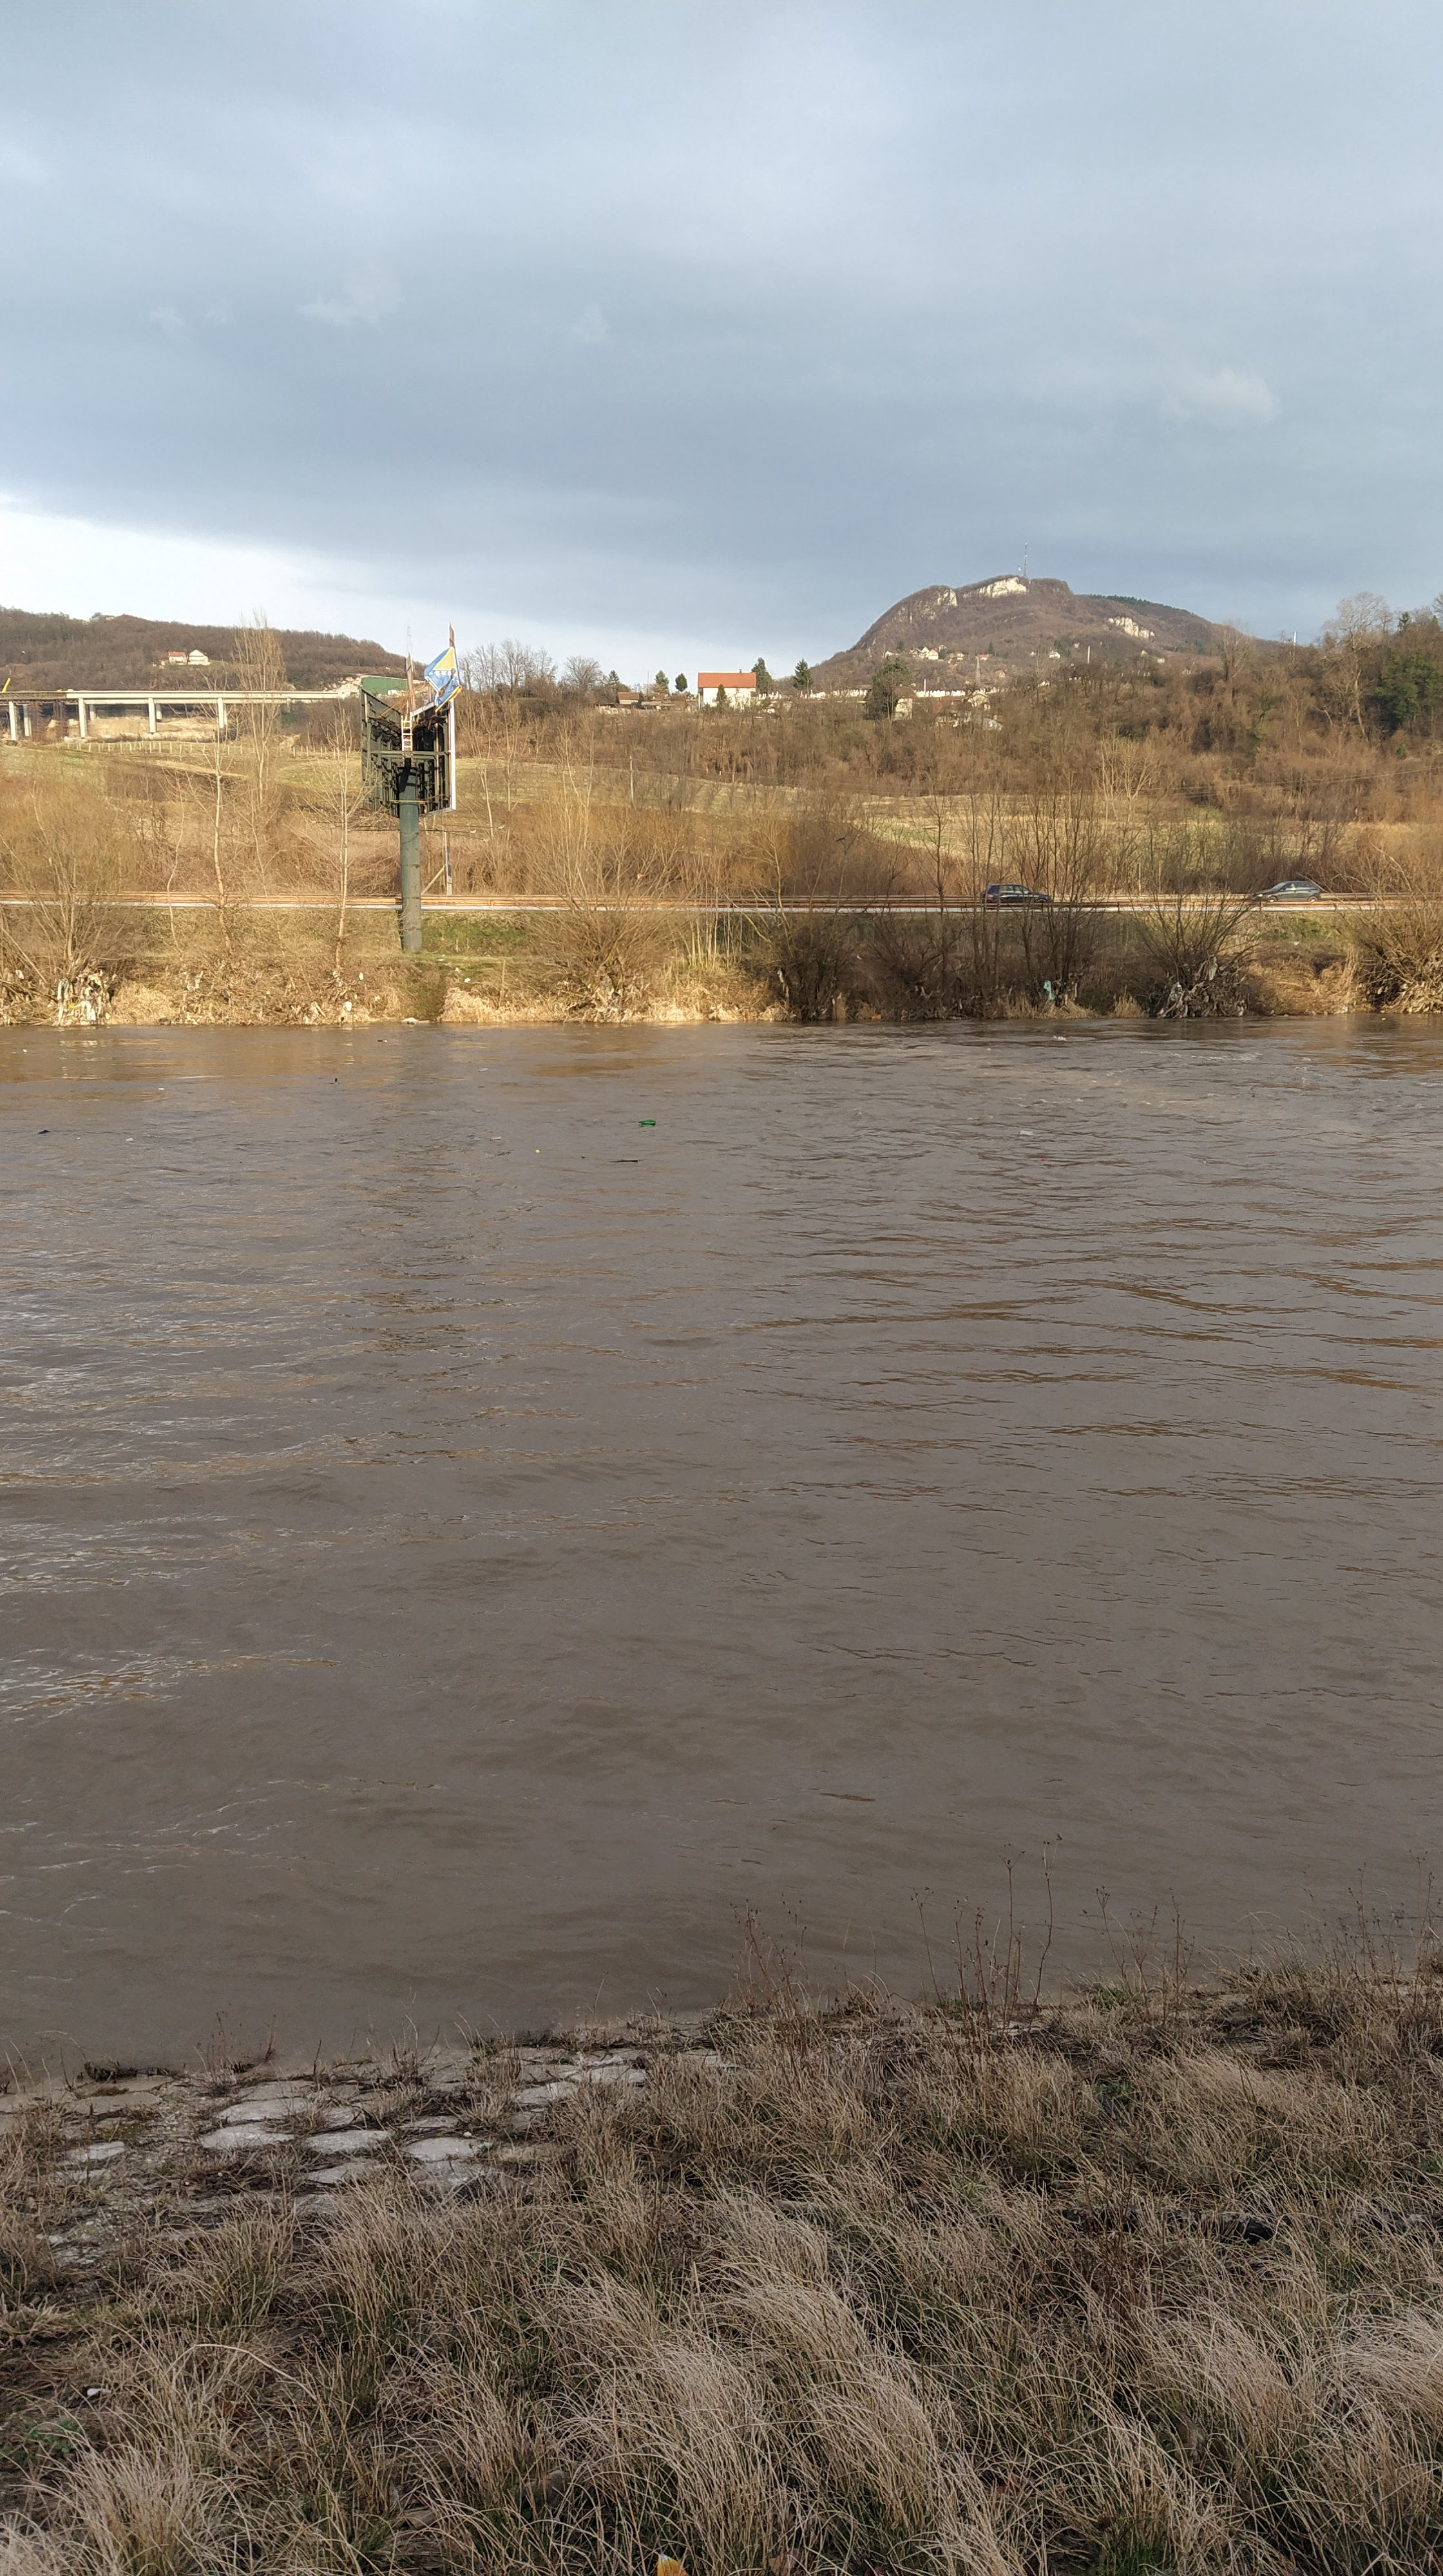Plastic Bottle: (637, 1118, 655, 1125), (37, 1129, 50, 1134), (1020, 1131, 1032, 1134), (478, 1067, 487, 1070), (490, 1136, 499, 1139), (126, 1138, 133, 1141)
